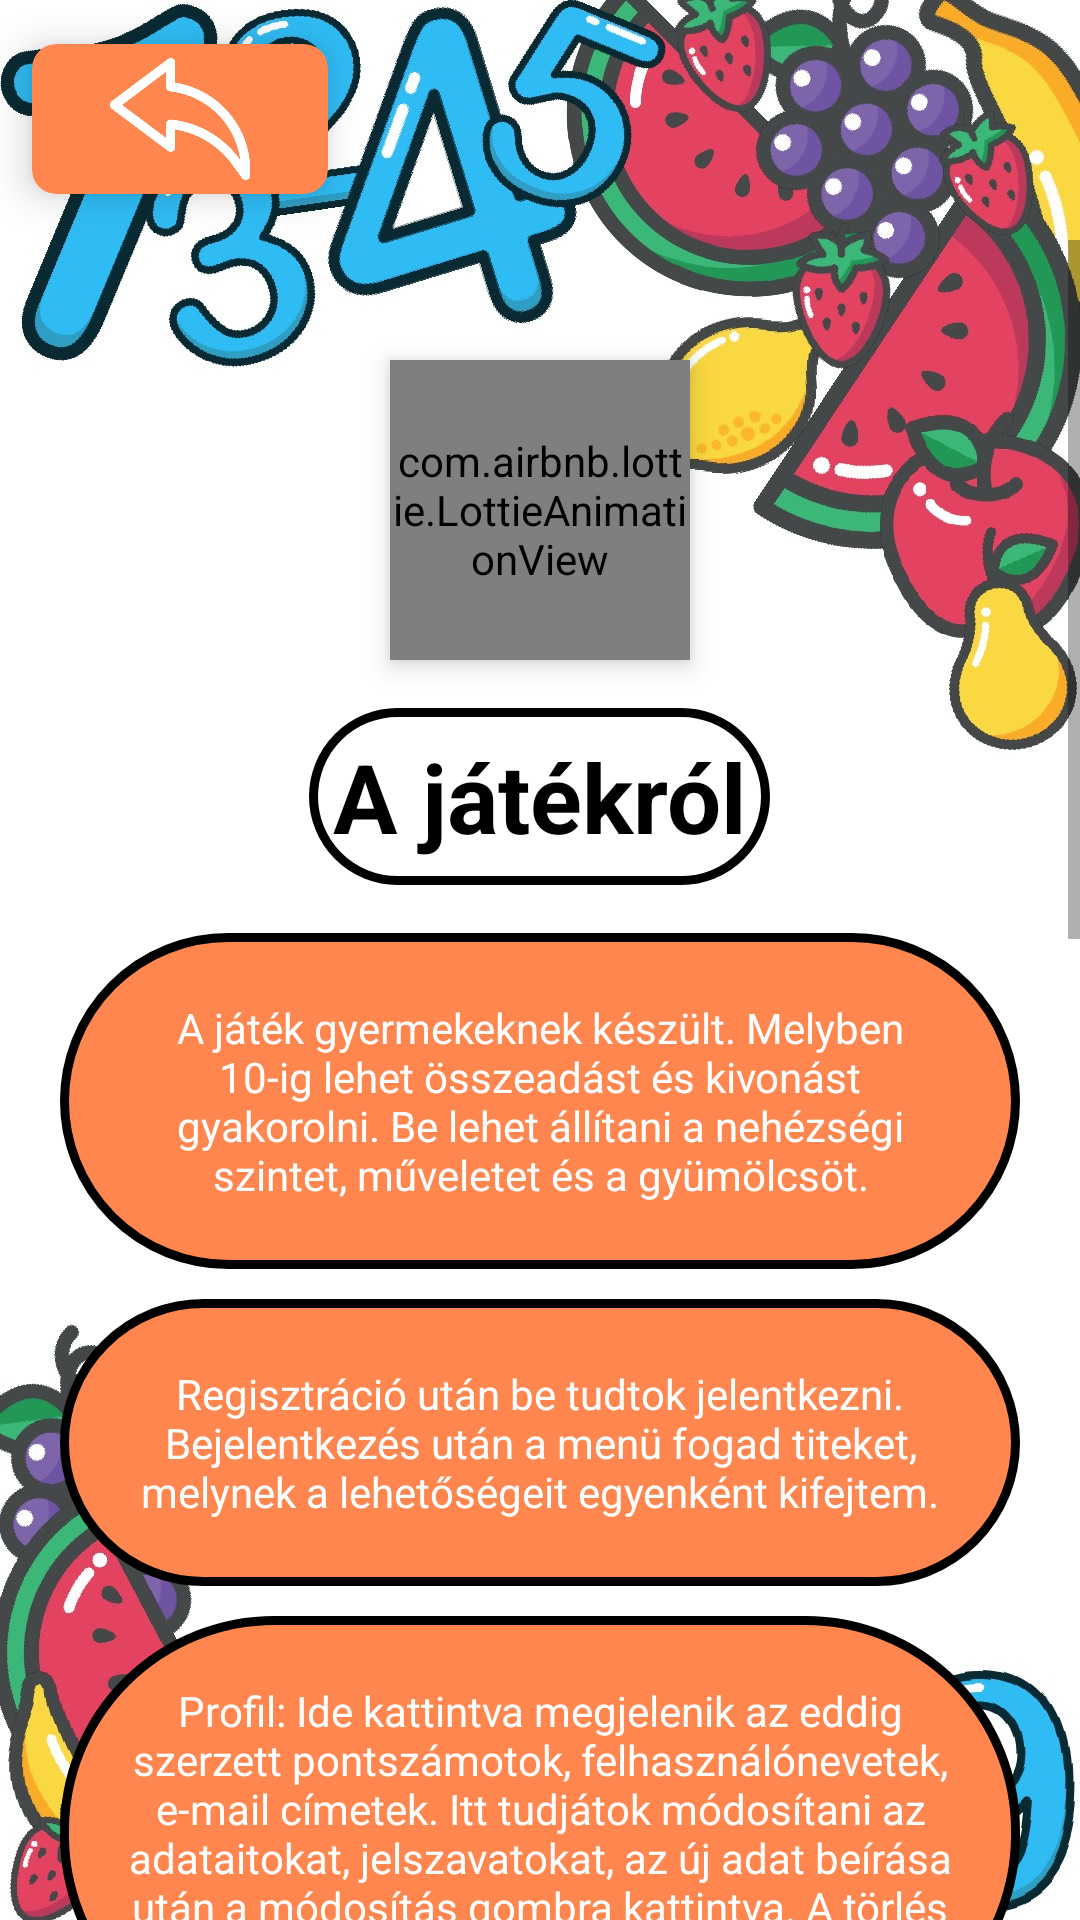

Point at icon controls on the screen. Image size 1080 x 1920, points as [x,y].
back: [180,119]
